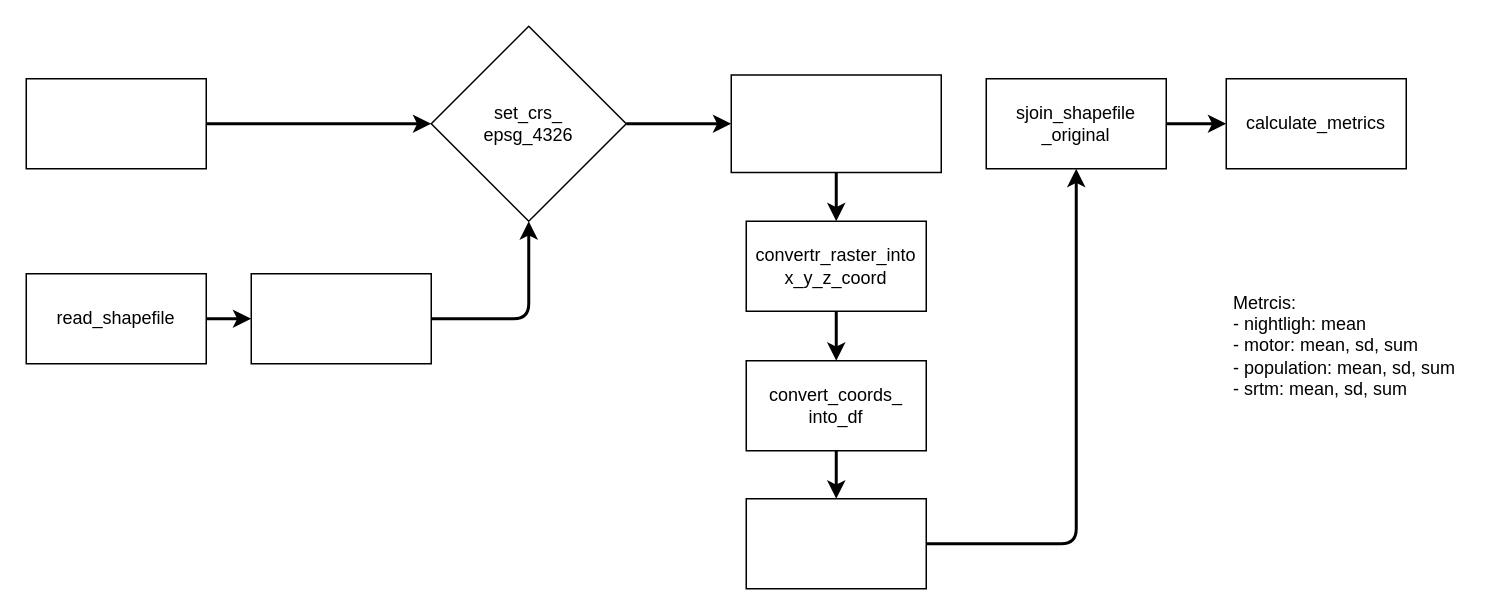
Image size: 1506x615. Some labels were removed from this diagram. The centre of each missing label's shape, as x and y in pixels:
convert_df_ into_points: point (835, 543)
crop_raster_into_bbox: point (835, 123)
read_raster: point (115, 123)
select_index: point (340, 318)
